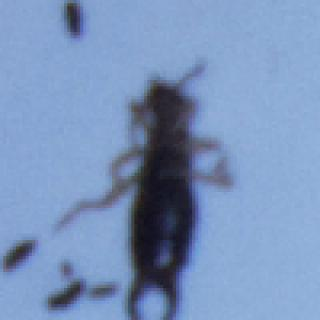earwig: (56, 56, 240, 318)
